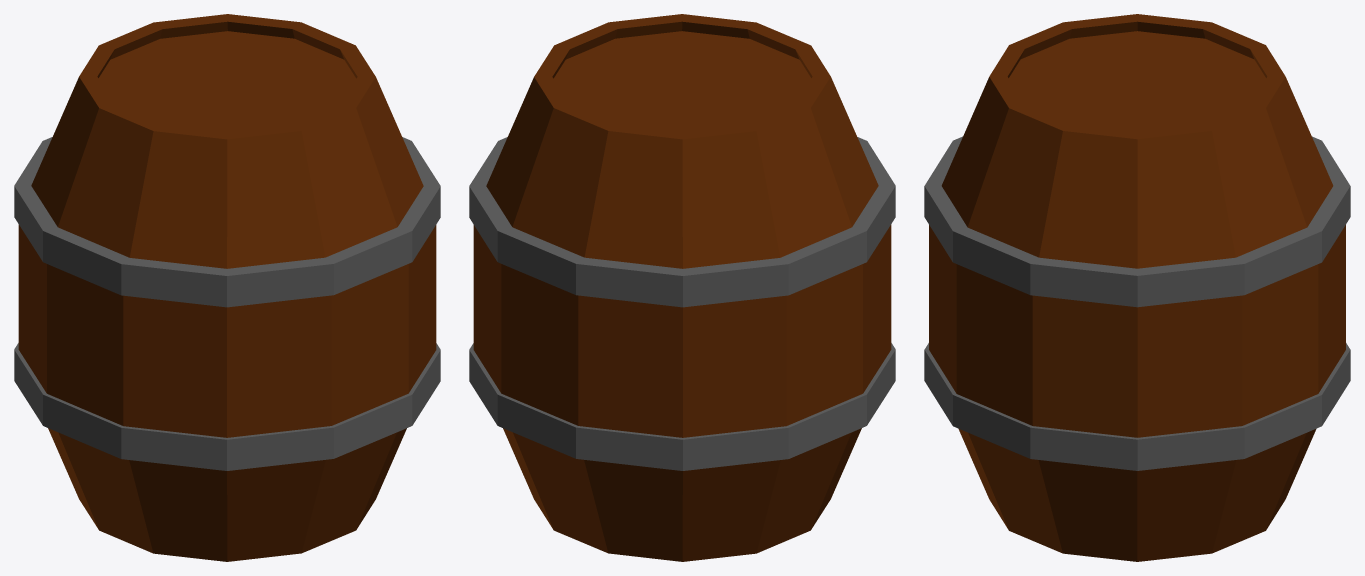
File: Barrel.fbx
3 views of the same model, side by side, from view 1: azimuth 30°, elevation 25°; view 2: azimuth 150°, elevation 25°; view 3: azimuth 270°, elevation 25° (orthographic).
Parts seen in each view (by area): view 1: Cube, Cube.002, Cube.001; view 2: Cube, Cube.002, Cube.001; view 3: Cube, Cube.002, Cube.001.
Boxes of the visible parts, x1=… form: Cube: x1=18, y1=14, x2=436, y2=561; Cube.002: x1=14, y1=137, x2=440, y2=307; Cube.001: x1=14, y1=343, x2=440, y2=470; Cube: x1=473, y1=14, x2=891, y2=561; Cube.002: x1=469, y1=137, x2=895, y2=307; Cube.001: x1=469, y1=343, x2=895, y2=470; Cube: x1=929, y1=14, x2=1345, y2=561; Cube.002: x1=924, y1=136, x2=1350, y2=307; Cube.001: x1=924, y1=343, x2=1350, y2=470.
Size of the model in its own units: 204 by 224 by 204.
